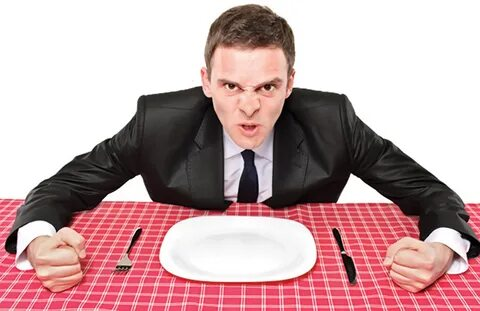awake: (19, 3, 462, 294)
